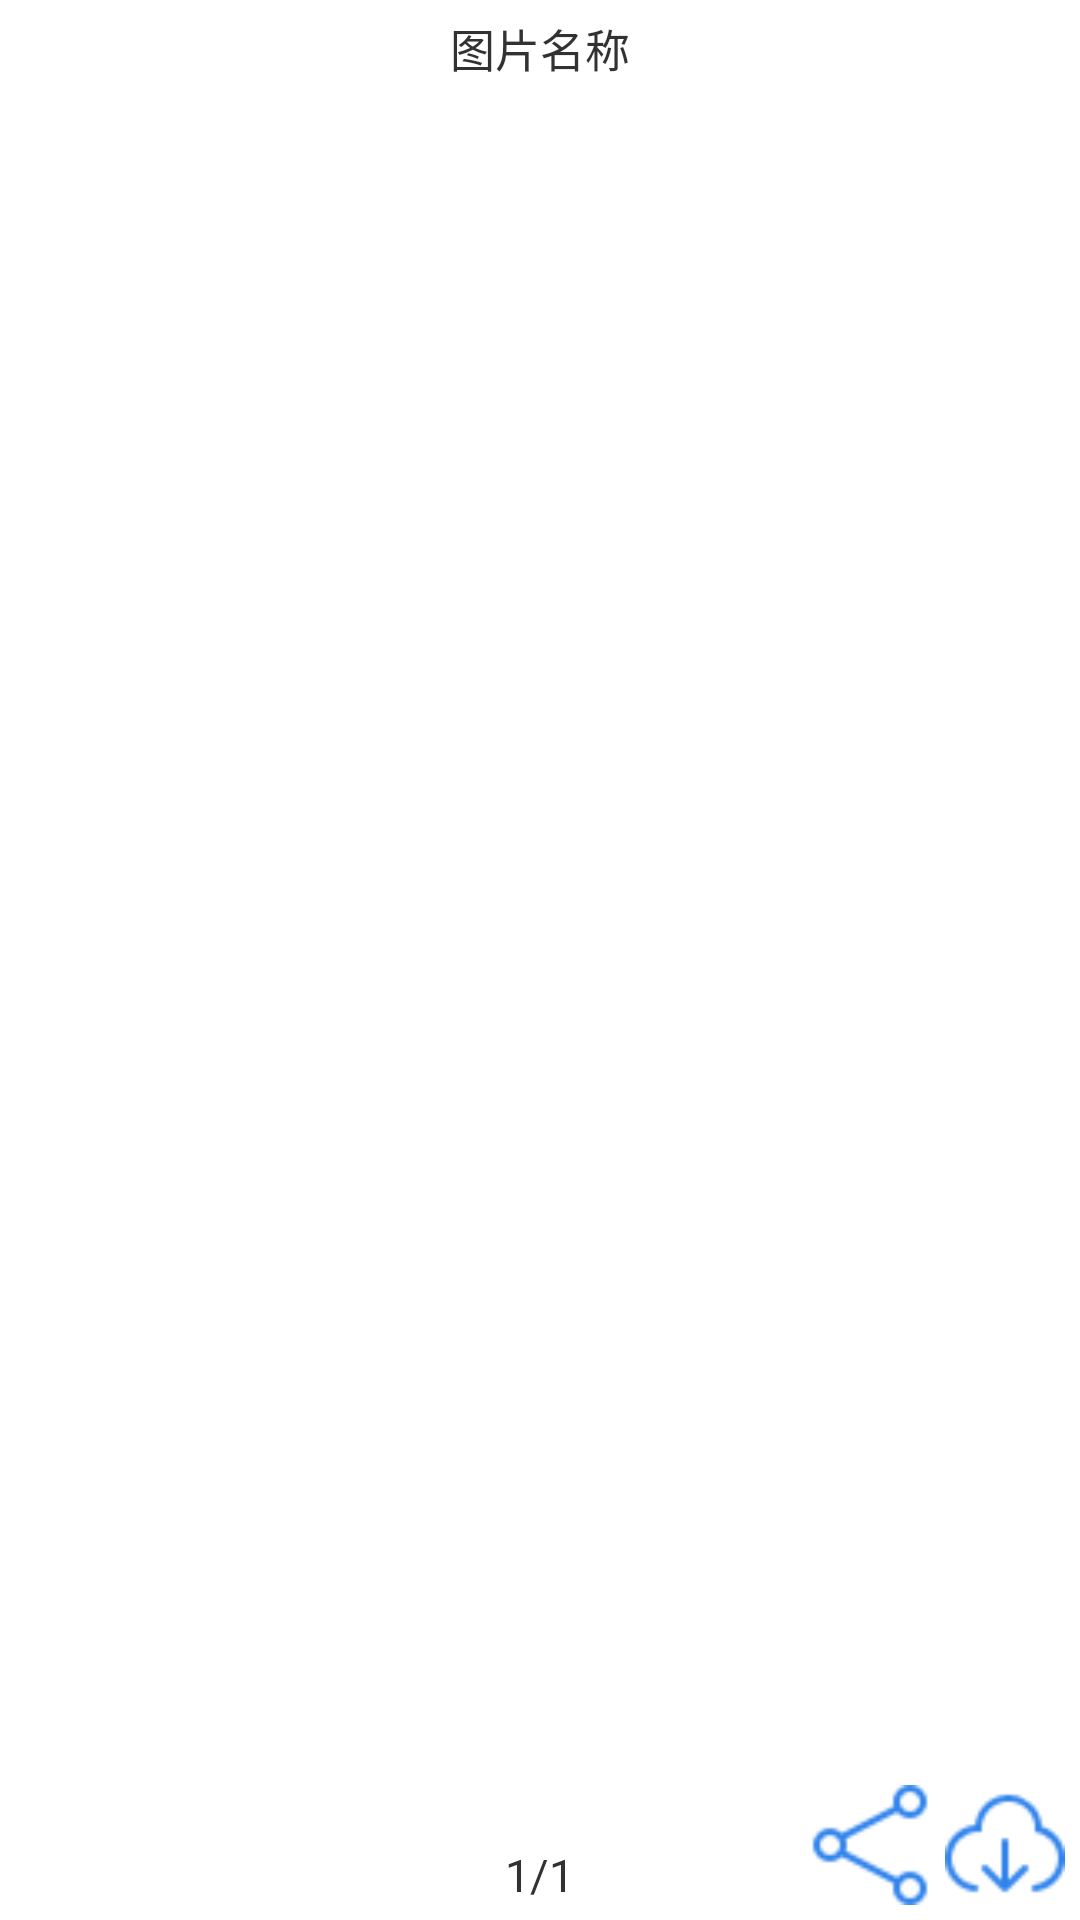

Icons on this 1080w x 1920h Android screen, each with its box as bbox=(x1, y1, x2, y2):
download press: bbox=(945, 1794, 1065, 1893)
pop send press: bbox=(812, 1785, 928, 1905)
